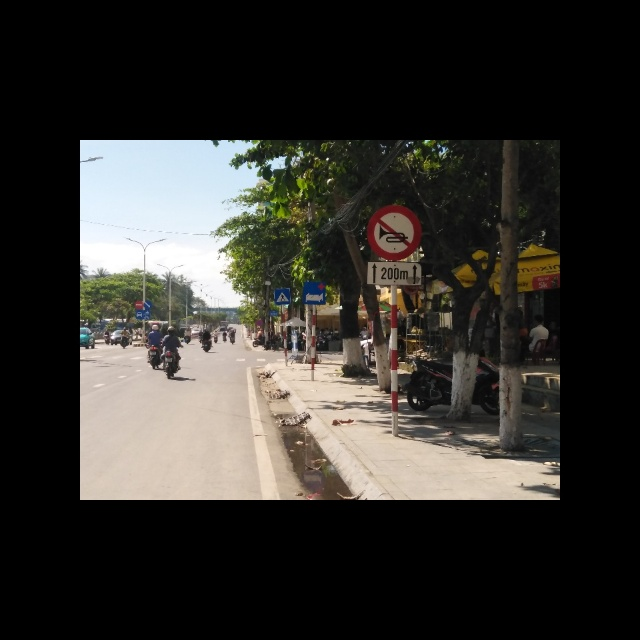Bệnh viện: (302, 281, 325, 306)
Cấm bấm còi: (369, 206, 421, 261)
Đường dành cho người đi bộ: (274, 288, 290, 305)
